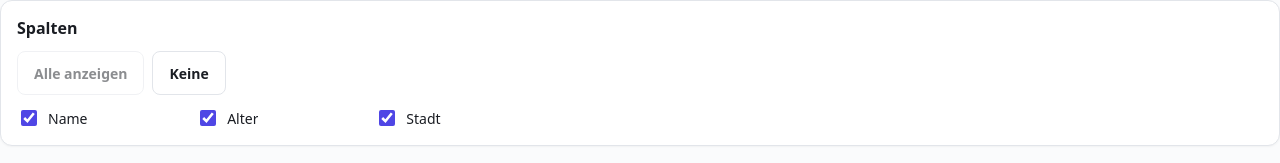
Test case: ColumnVisibilityPanel › blendet mit "Keine" alle Spalten aus
Click the button "Keine". click: (189, 73)
box: [152,51,226,95]
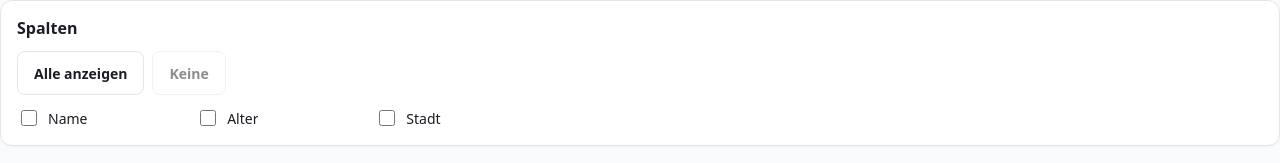
Expected: the checkbox labelled "Name" is not checked, [21,110,37,126]
Expected: the checkbox labelled "Alter" is not checked, [200,110,216,126]
Expected: the checkbox labelled "Stadt" is not checked, [379,110,395,126]
